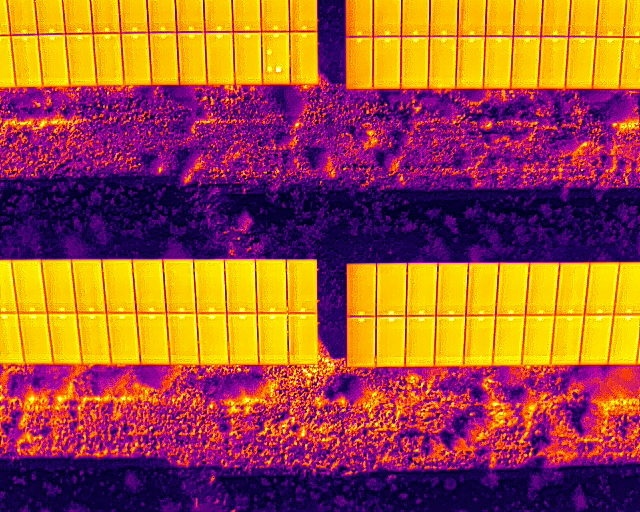multi_spot: (260, 32, 291, 86)
photovoltaic_panels: (1, 257, 319, 364), (344, 260, 639, 368), (2, 1, 319, 88), (345, 1, 639, 90)
